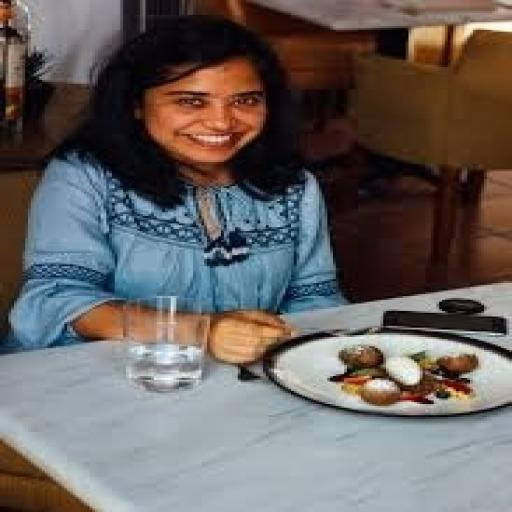eating: (3, 13, 350, 367)
